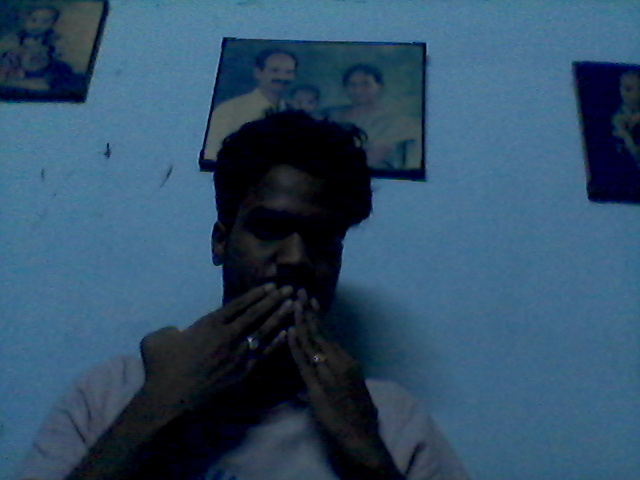Hi: (110, 266, 427, 480)
